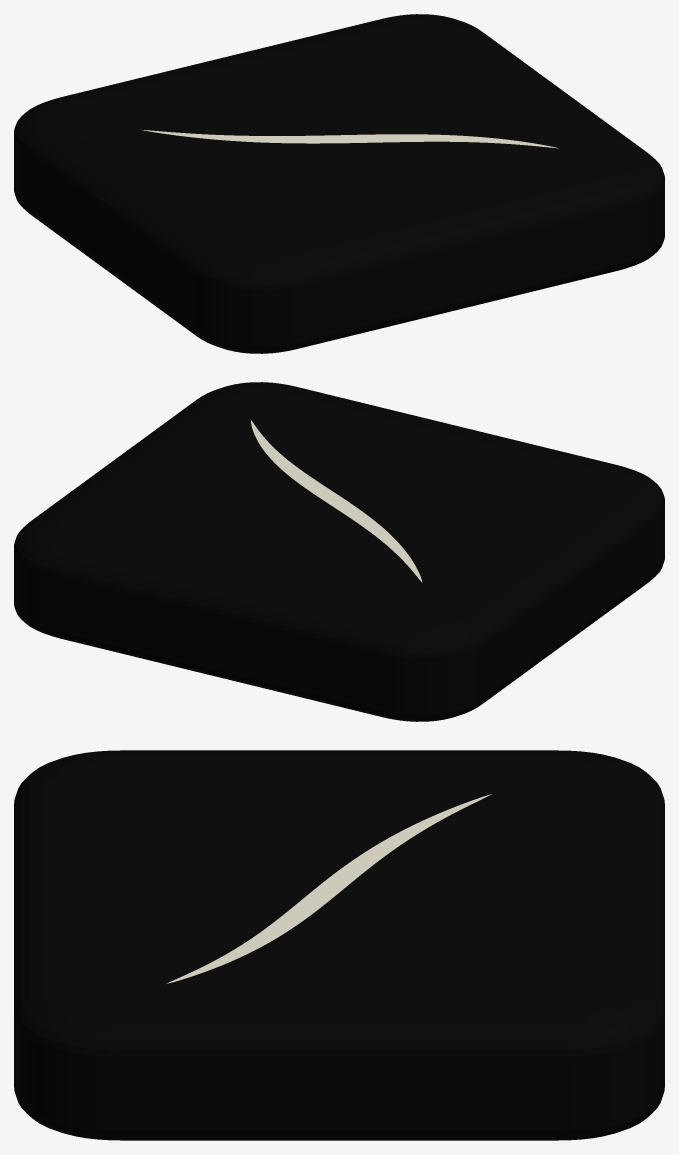
File: touchstone-assay-mark.obj
3 views of the same model, one above another, from view 1: azimuth 30°, elevation 25°; view 2: azimuth 150°, elevation 25°; view 3: azimuth 270°, elevation 25° (orthographic). The views are drawn at different scales.
Visible parts, largest first — view 1: Stone, Strike; view 2: Stone, Strike; view 3: Stone, Strike.
Boxes of the visible parts, x1,y1,x2,y2 form: Stone: [14, 14, 664, 353]; Strike: [142, 130, 558, 148]; Stone: [14, 382, 664, 721]; Strike: [251, 420, 422, 582]; Stone: [14, 750, 664, 1140]; Strike: [166, 794, 491, 983].
Size of the model in its own units: 1.37 by 0.261 by 1.27.
